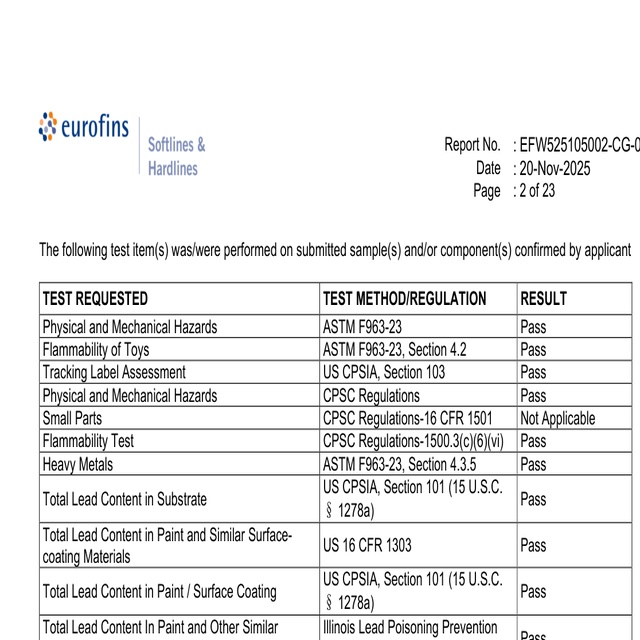eurofins: (37, 106, 131, 148)
